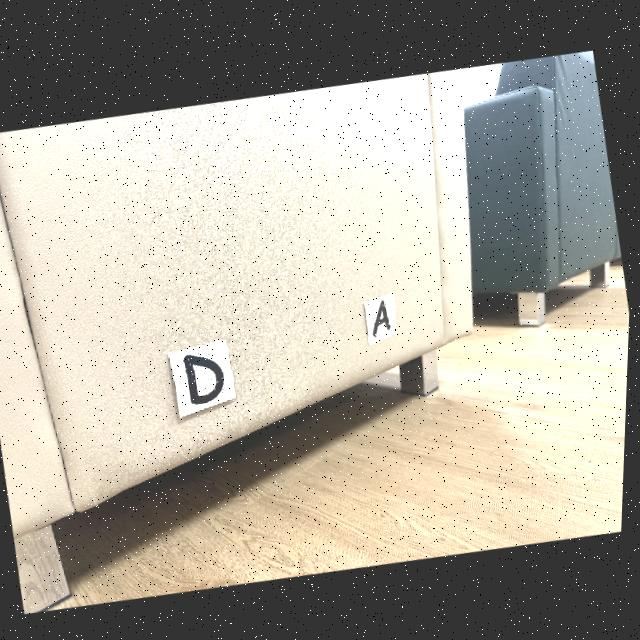A: (375, 297, 394, 333)
D: (186, 352, 227, 402)
